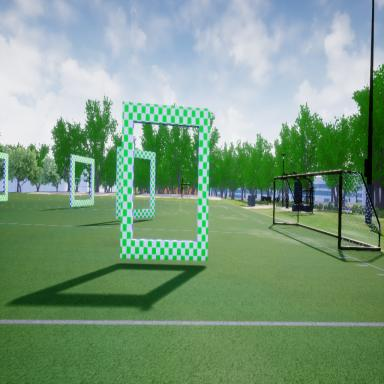gate: (120, 95, 214, 274), (115, 144, 159, 224), (68, 151, 96, 210)
